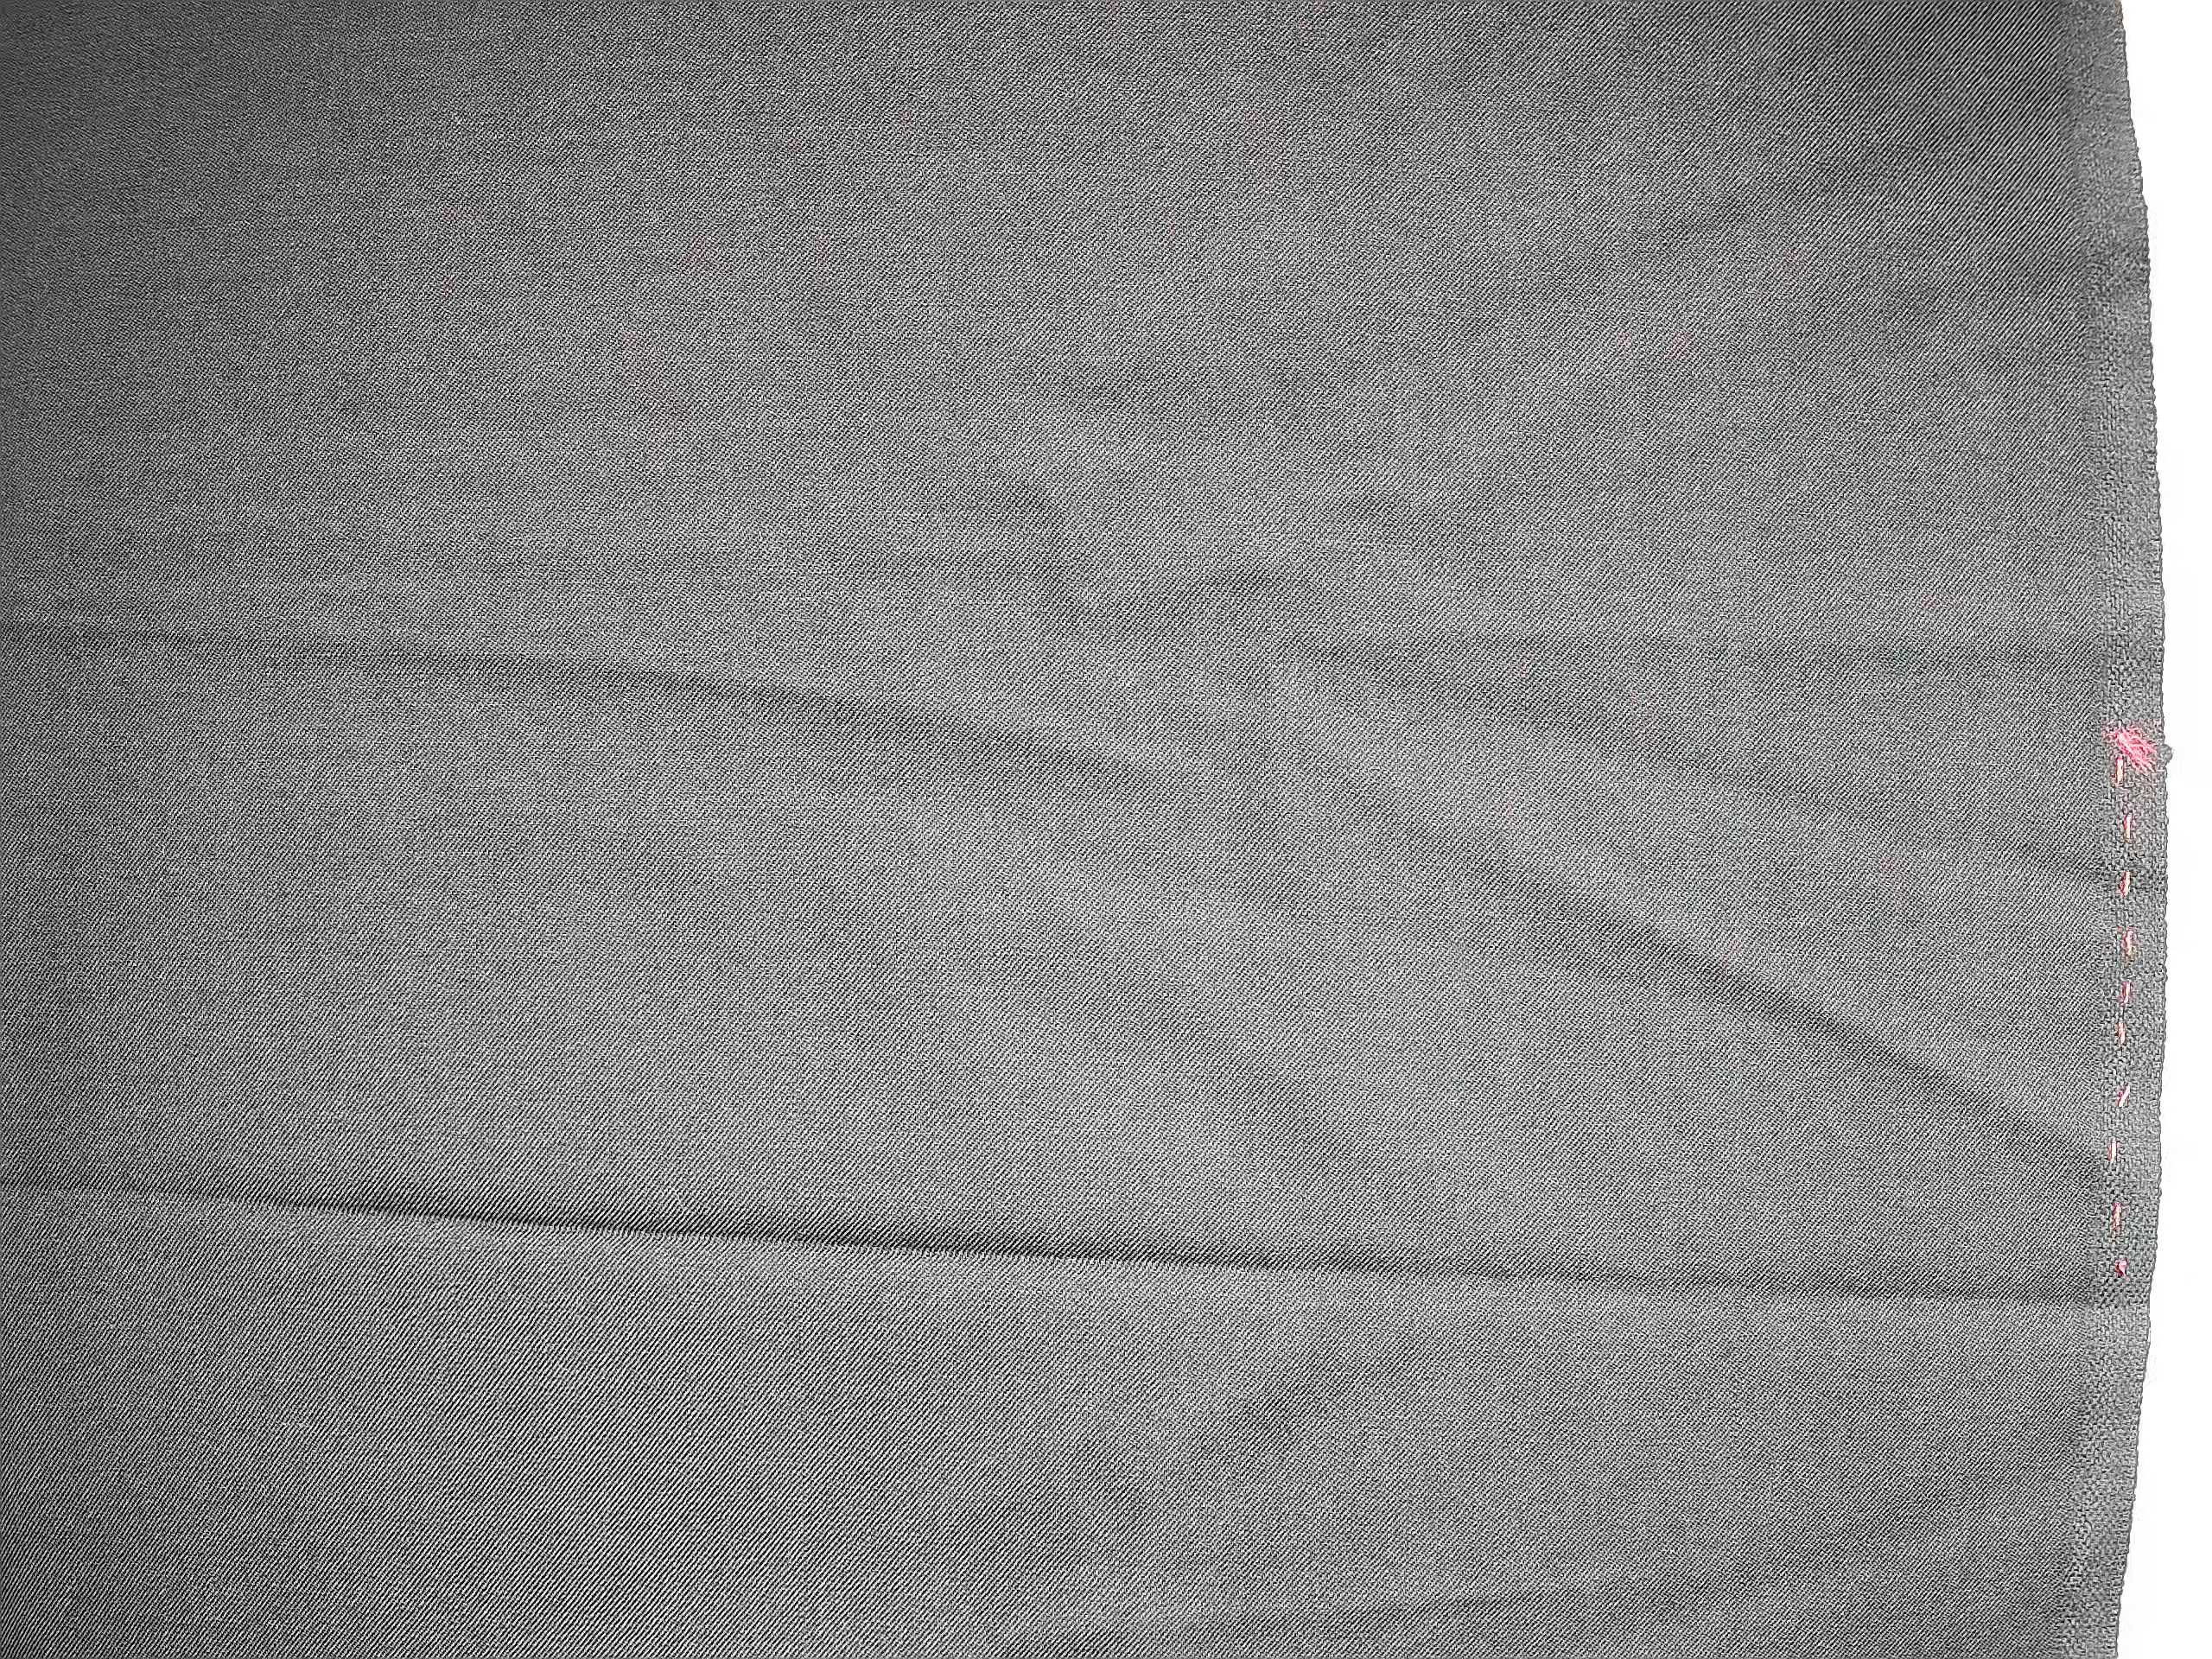hanging-warp: (1714, 533, 1778, 1241)
